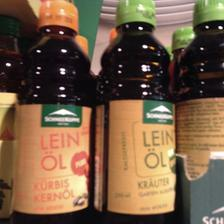Oel: (9, 0, 95, 222), (95, 0, 177, 222)
